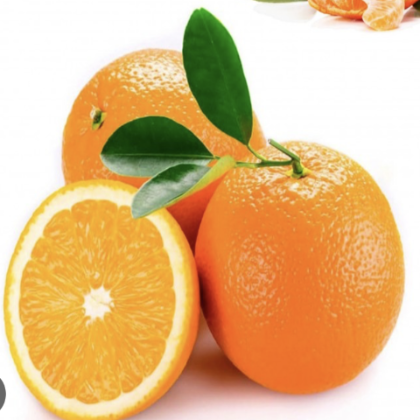orange: (180, 114, 414, 407), (55, 43, 288, 281)
